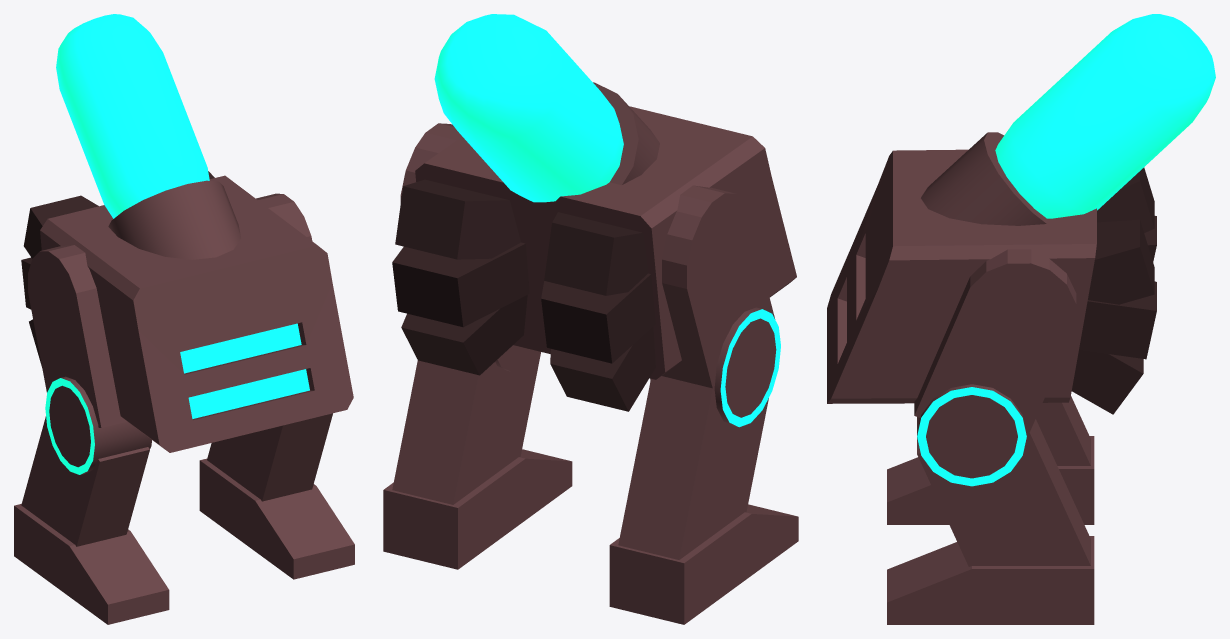
Rendered from SM_Enemy_Fast_Blockout.fbx.
3 views of the same model, side by side, from view 1: azimuth 30°, elevation 25°; view 2: azimuth 150°, elevation 25°; view 3: azimuth 270°, elevation 25° (orthographic). The views are drawn at different scales.
Visible parts, largest first — view 1: Cube.014; view 2: Cube.014; view 3: Cube.014.
Boxes of the visible parts, bbox=[...] form: Cube.014: bbox=[14, 14, 354, 624]; Cube.014: bbox=[383, 14, 798, 624]; Cube.014: bbox=[827, 14, 1215, 624].
Bounding box in the file's own units: 1.15 × 2.17 × 1.42.
